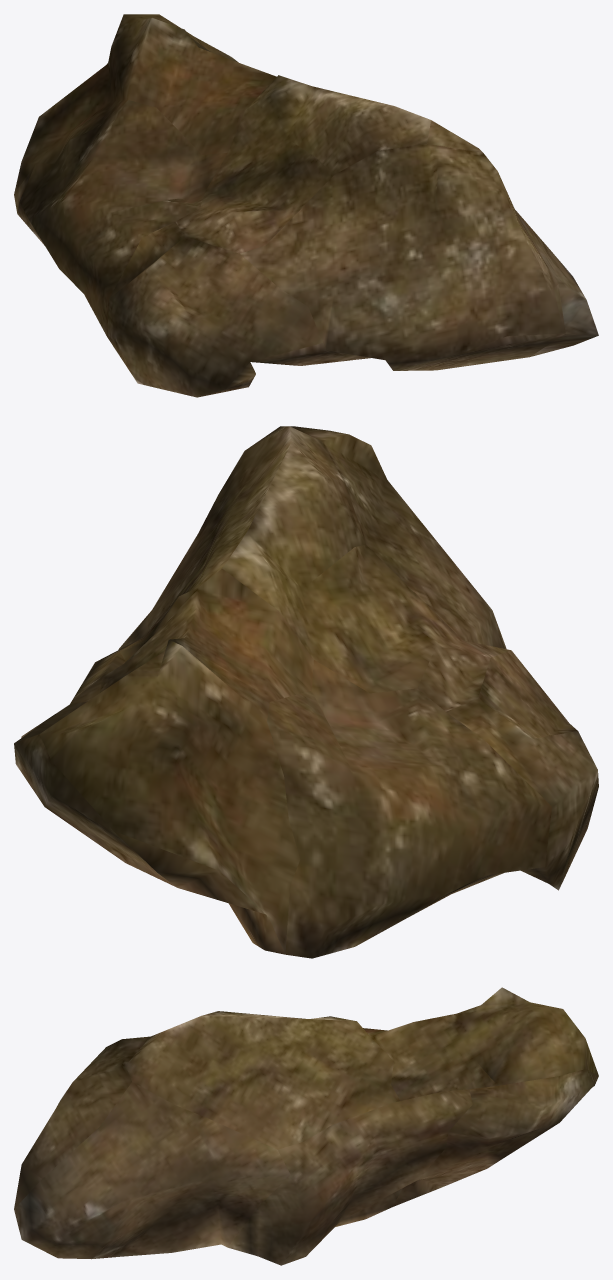
File: moss-rock.glb
The picture shows the model from 3 angles, top to bottom: view 1: azimuth 30°, elevation 25°; view 2: azimuth 150°, elevation 25°; view 3: azimuth 270°, elevation 25°; orthographic projection. The views are drawn at different scales.
Visible parts, largest first — view 1: rock_moss_set_01_rock01; view 2: rock_moss_set_01_rock01; view 3: rock_moss_set_01_rock01.
Part boxes in pixels (box(x1,y1,x2,y2)): rock_moss_set_01_rock01: box(14, 14, 598, 397); rock_moss_set_01_rock01: box(14, 426, 598, 958); rock_moss_set_01_rock01: box(14, 987, 598, 1265).
Bounding box in the file's own units: 2.24 × 1.46 × 3.36.
1 material, 1 textured.
